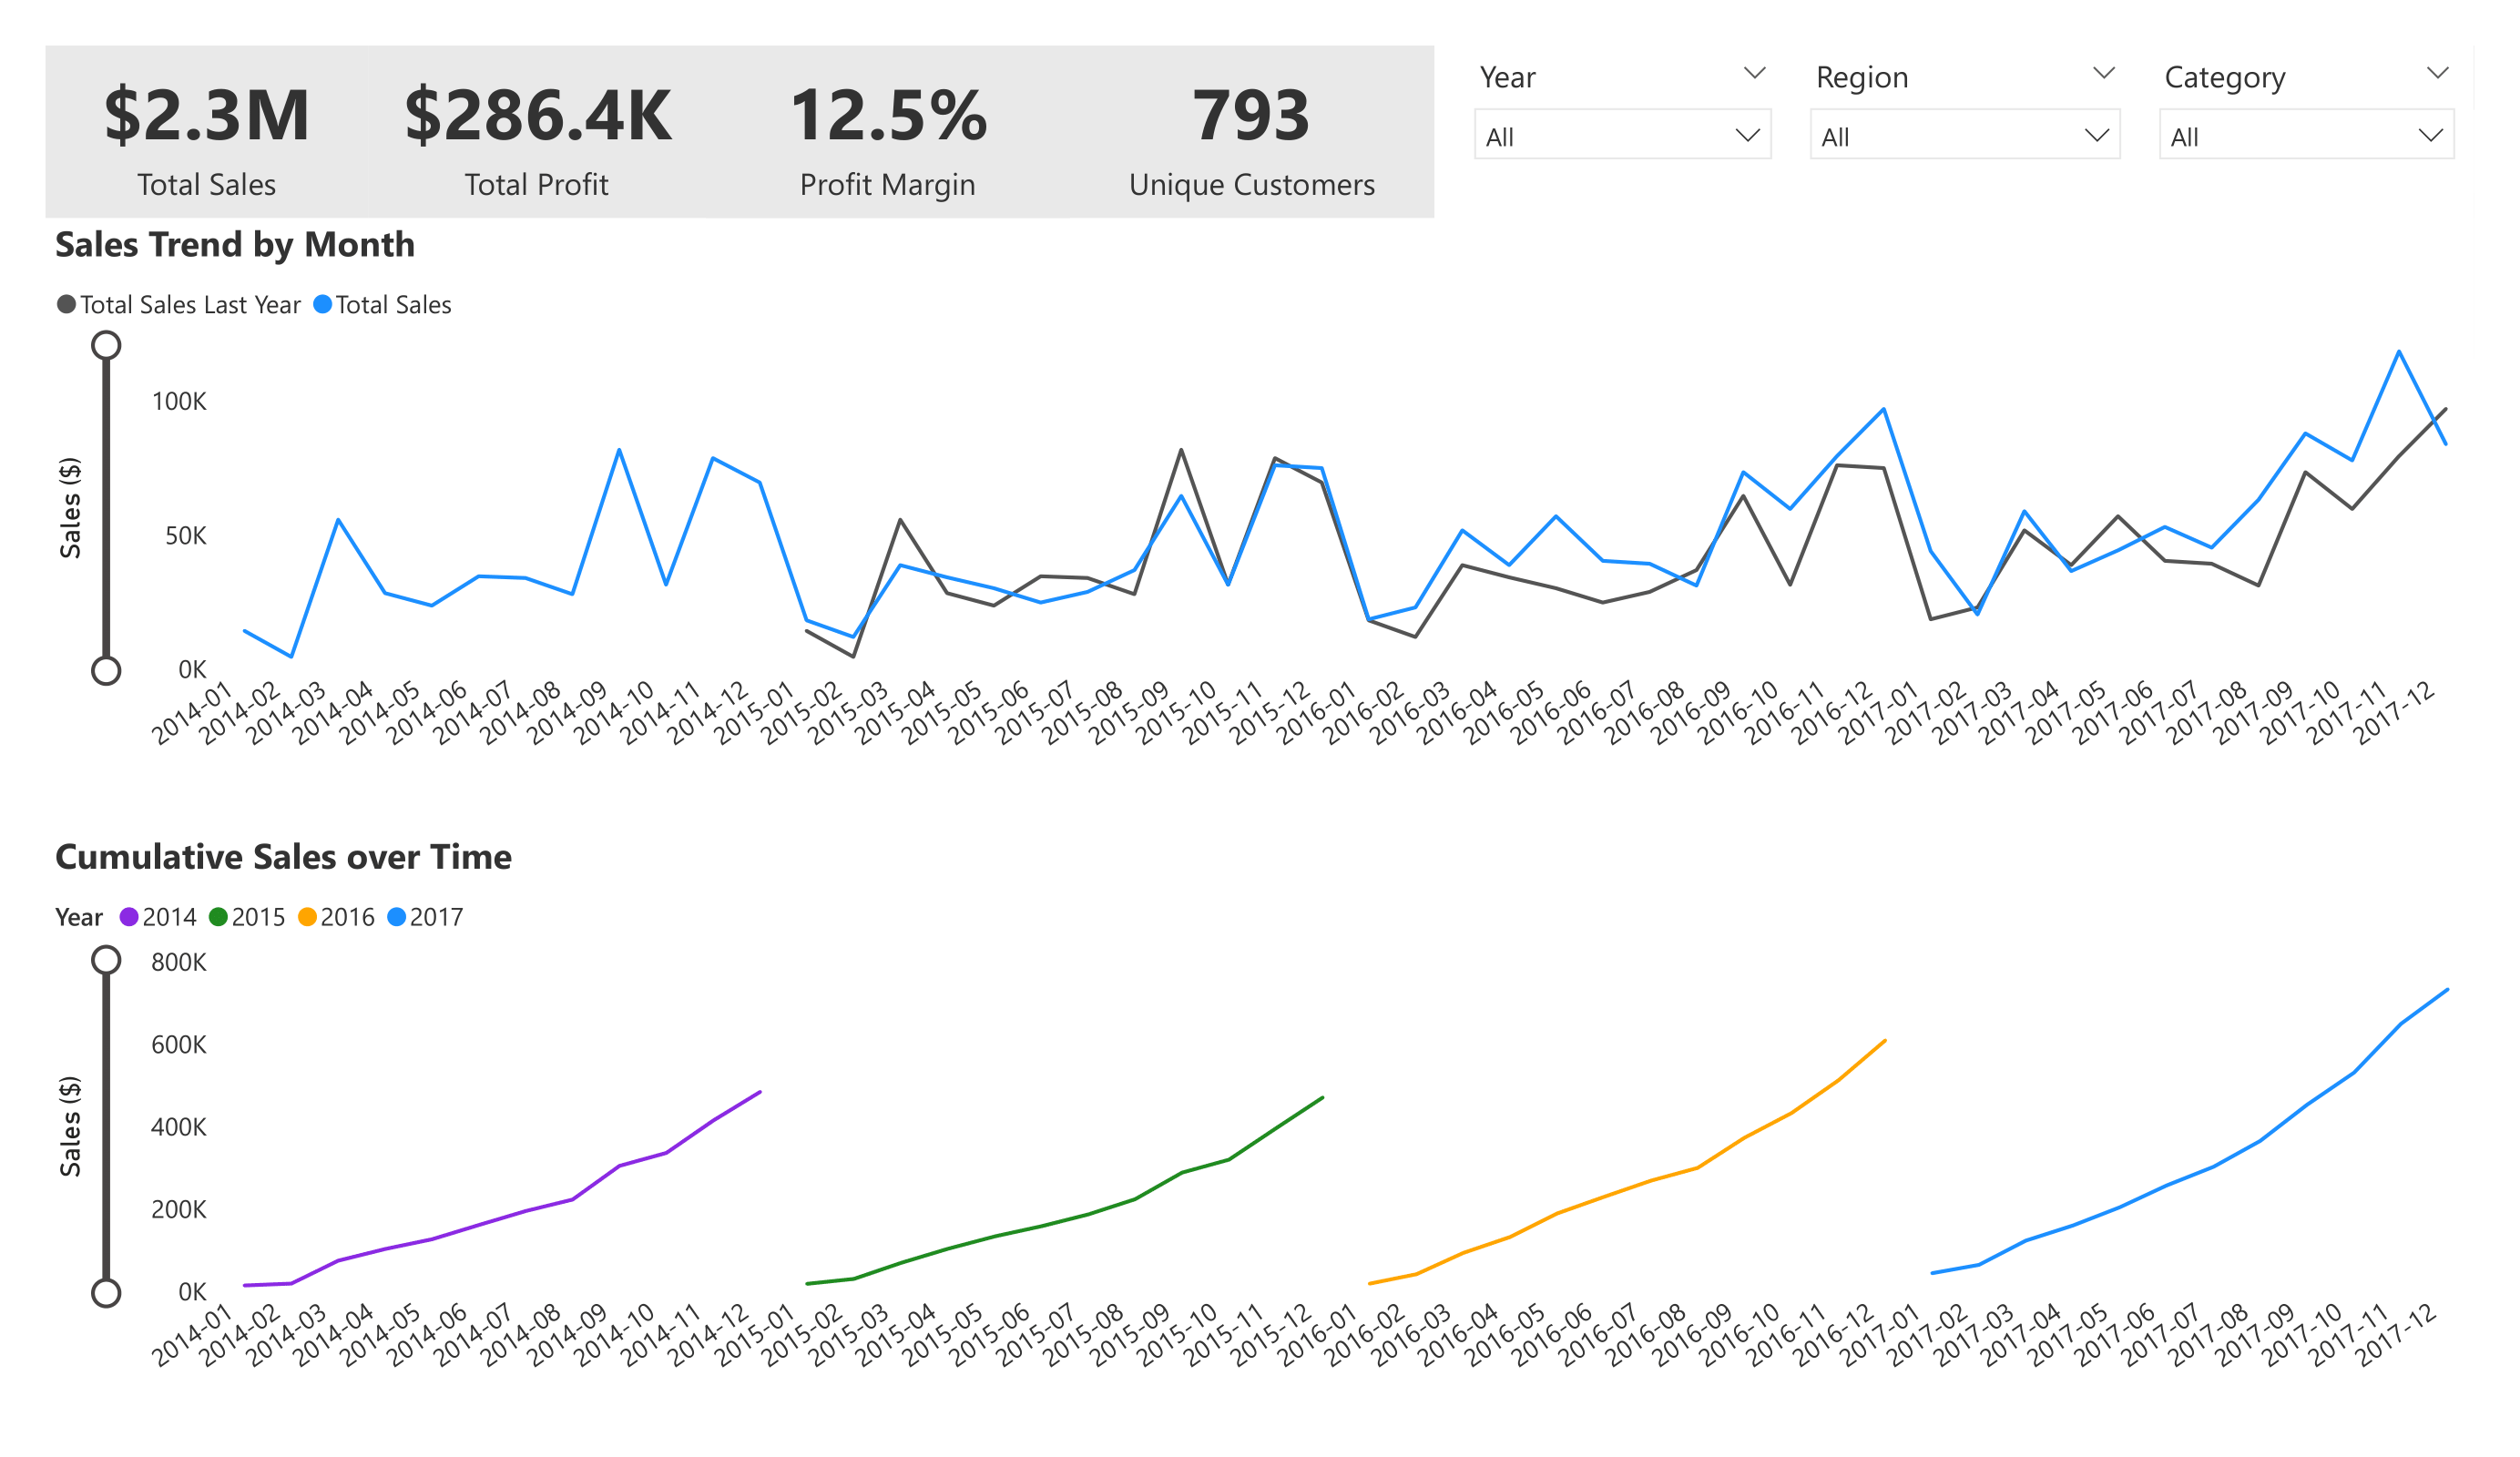

Layout of this report page (visuals, bound fields, positions):
{"tool":"powerbi","page":{"name":"Page 1","canvas":[1280,720],"ordinal":0},"visuals":[{"type":"card","fields":{"Values":["superstoresales_clean.Total Sales"]},"box":[0,0,169.9,90.7],"z":0},{"type":"card","fields":{"Values":["superstoresales_clean.Total Profit"]},"box":[169.9,0,178.6,90.7],"z":1000},{"type":"card","fields":{"Values":["superstoresales_clean.Unique Customers"]},"box":[540,0,191.5,90.7],"z":2000},{"type":"lineChart","title":"Total Sales over Time","fields":{"Y":["superstoresales_clean.Monthly Sales LY","superstoresales_clean.Total Sales"],"Category":["DateTable.Year-Month"]},"box":[0,90.7,1280.2,301],"z":3000},{"type":"lineChart","title":"Cumulative Total Sales (YTD)","fields":{"Category":["DateTable.Year-Month"],"Y":["superstoresales_clean.Running Total Sales"],"Series":["DateTable.Year"]},"box":[0,391.7,1280.2,328.3],"z":4000},{"type":"card","fields":{"Values":["superstoresales_clean.Profit Margin"]},"box":[348.5,0,191.5,90.7],"z":5000},{"type":"slicer","fields":{"Values":["DateTable.Year"]},"box":[743,0,177.1,77.8],"z":6000},{"type":"slicer","fields":{"Values":["superstoresales_clean.Region"]},"box":[920.2,0,184.3,85],"z":7000},{"type":"slicer","fields":{"Values":["superstoresales_clean.Category"]},"box":[1104.5,0,175.7,77.8],"z":8000}]}

Visuals, with their boxes on the page's 1280x720 design canvas (x1, y1, x2, y2). These are canvas units, not pixel positions in the 2520x1457 screenshot, which may show the page scaled, cropped or inside an application window:
card - superstoresales_clean.Total Sales: (left=0, top=0, right=170, bottom=91)
card - superstoresales_clean.Total Profit: (left=170, top=0, right=348, bottom=91)
card - superstoresales_clean.Unique Customers: (left=540, top=0, right=732, bottom=91)
"Total Sales over Time" lineChart: (left=0, top=91, right=1280, bottom=392)
"Cumulative Total Sales (YTD)" lineChart: (left=0, top=392, right=1280, bottom=720)
card - superstoresales_clean.Profit Margin: (left=348, top=0, right=540, bottom=91)
slicer - DateTable.Year: (left=743, top=0, right=920, bottom=78)
slicer - superstoresales_clean.Region: (left=920, top=0, right=1104, bottom=85)
slicer - superstoresales_clean.Category: (left=1104, top=0, right=1280, bottom=78)
